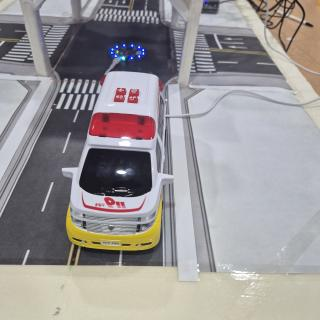Ambulance: (62, 72, 173, 251)
